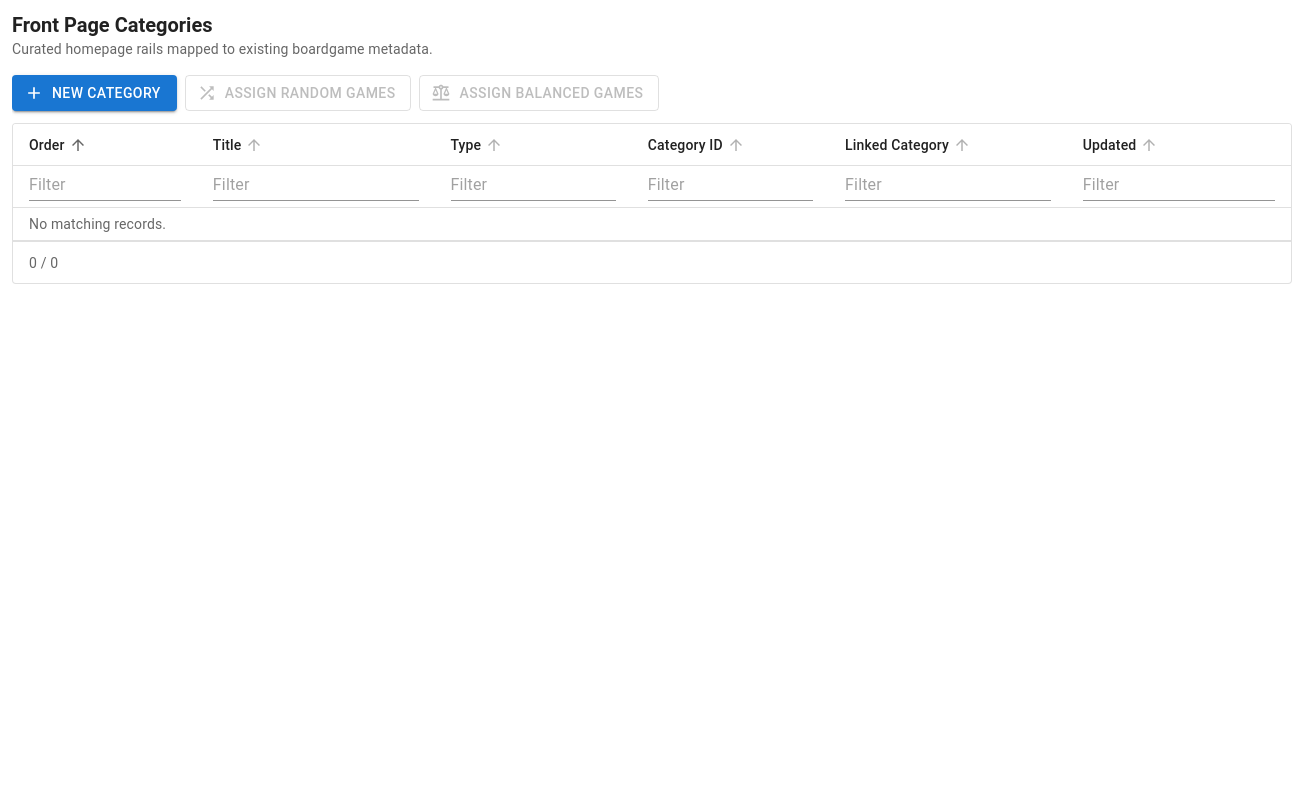
Scenario: FrontPageCategoriesPage › creates a front page category from the form
The width and height of the screenshot is (1292, 812).
Click the button "New Category" at point(94, 93), box x1=12 y1=75 x2=177 y2=111
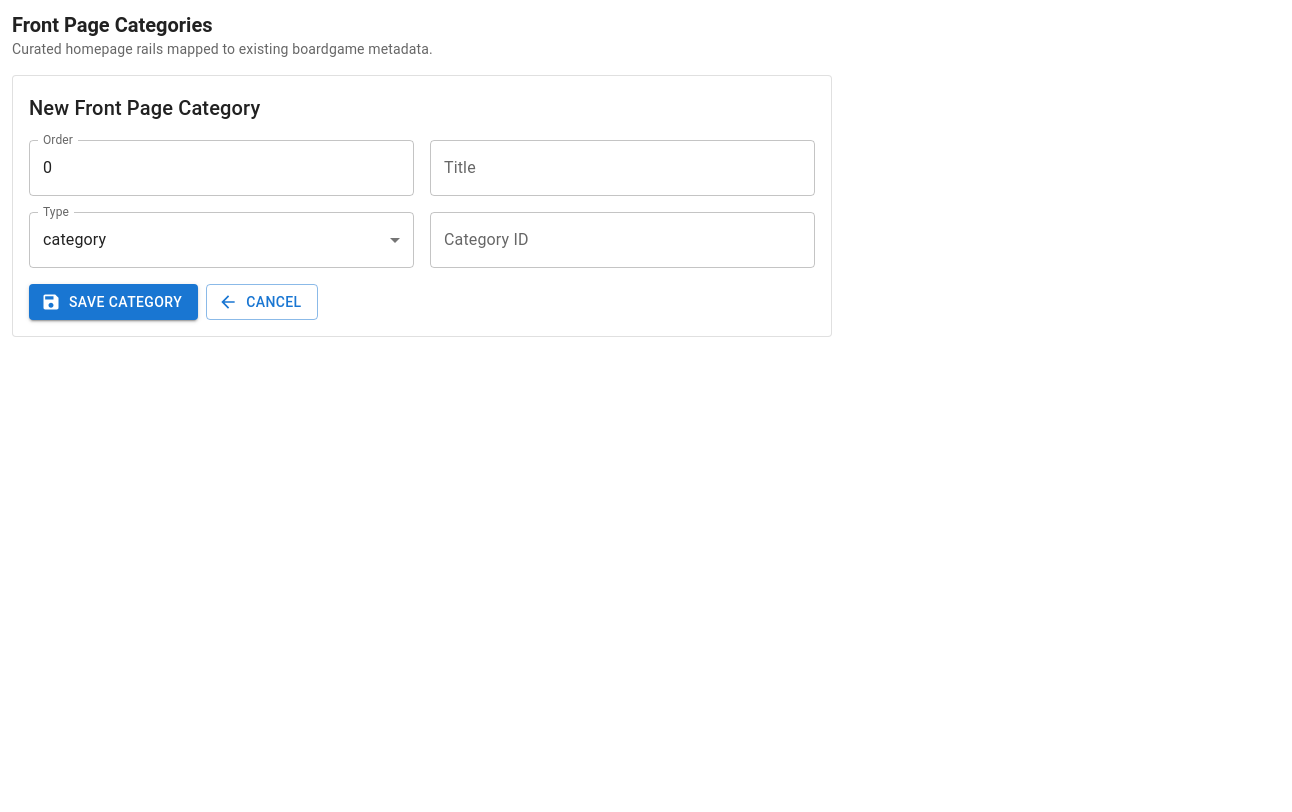
Check: the heading "New Front Page Category" is shown, box x1=29 y1=96 x2=260 y2=120
Type "10" into the number field labelled "Order" at point(222, 168), box x1=29 y1=140 x2=414 y2=196
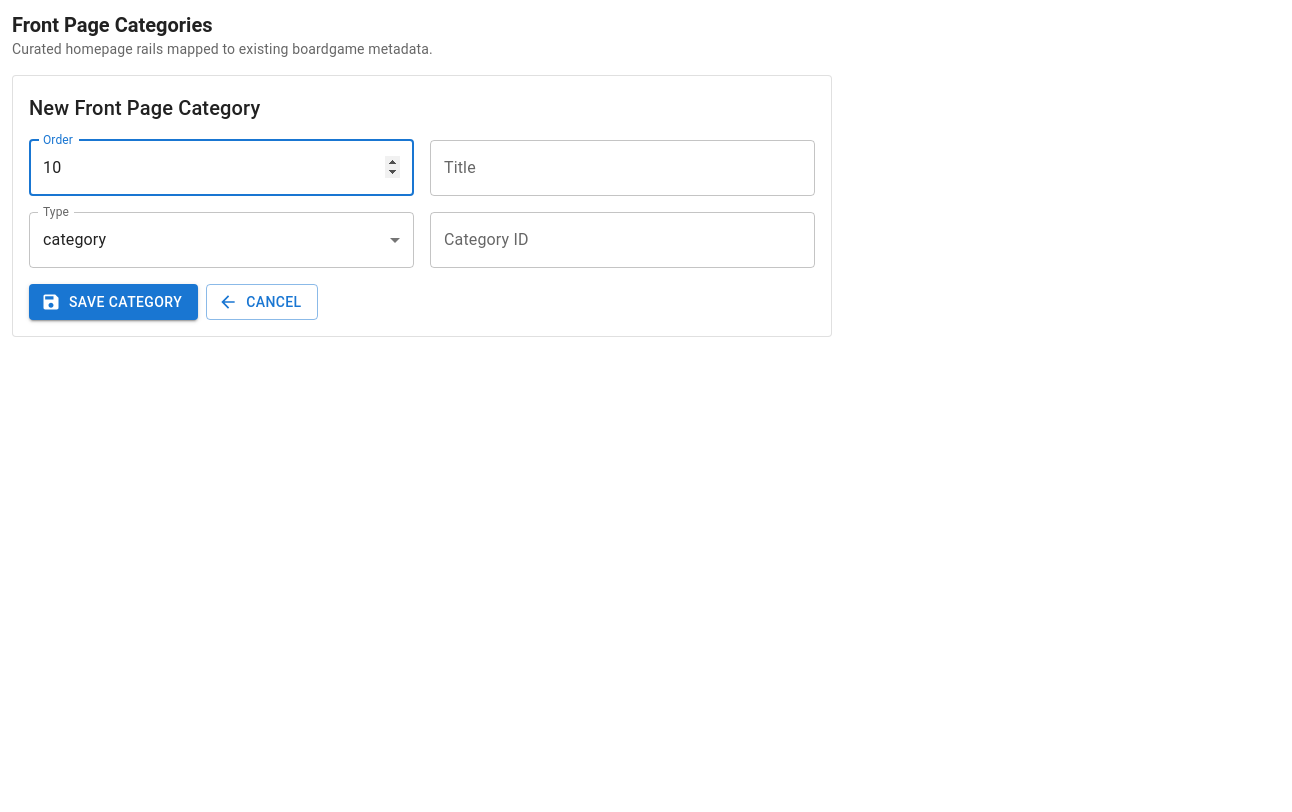
Type "Need a laugh?" into the field labelled "Title" at point(622, 168), box x1=430 y1=140 x2=815 y2=196
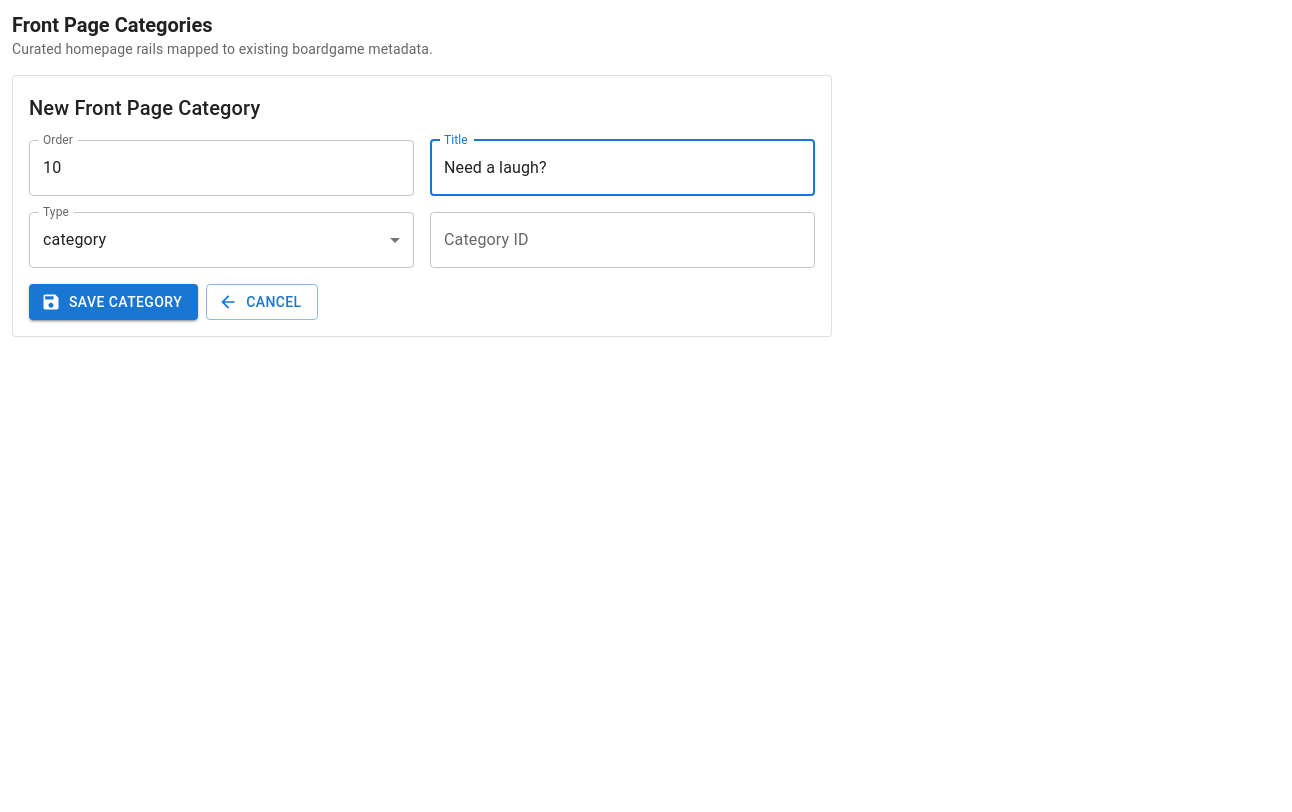
Type "5" into the number field labelled "Category ID" at point(622, 240), box x1=430 y1=212 x2=815 y2=268
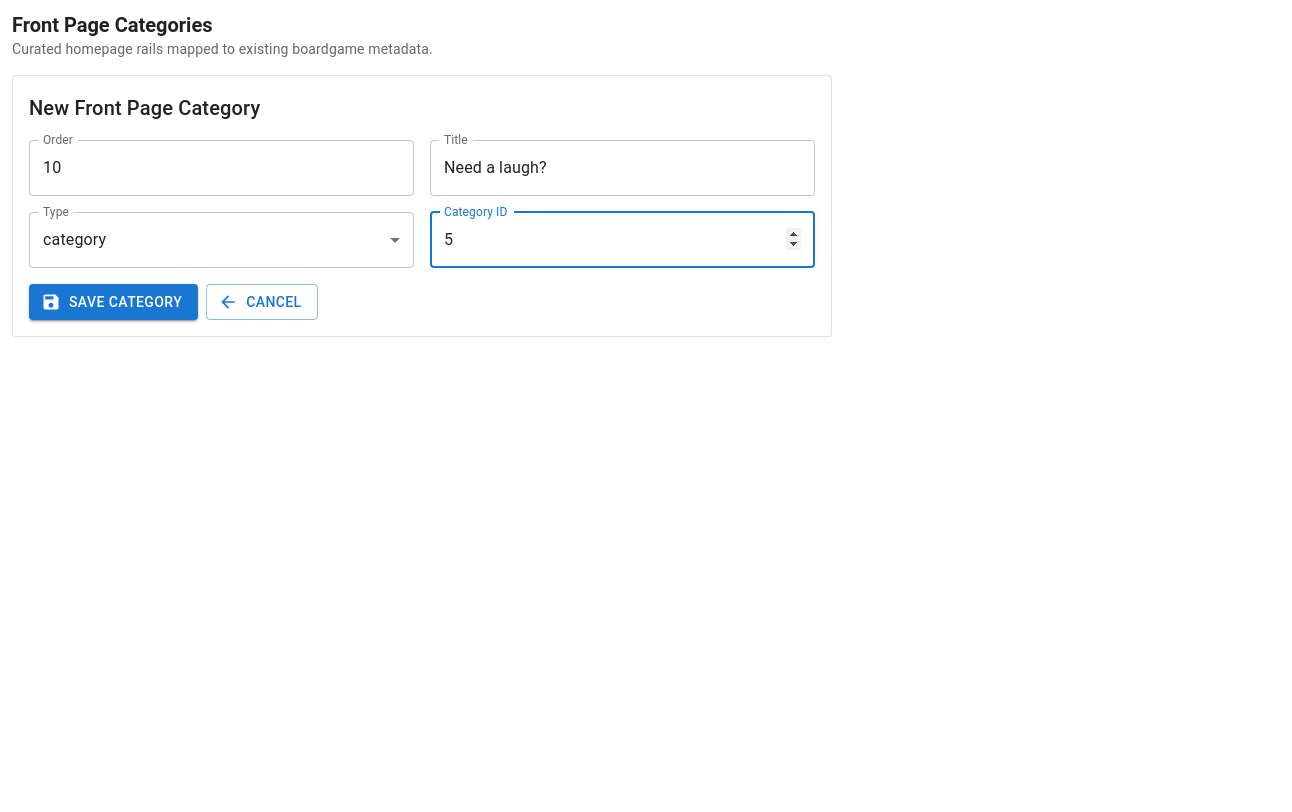
Click the button "Save Category" at point(114, 302), box x1=29 y1=284 x2=198 y2=320
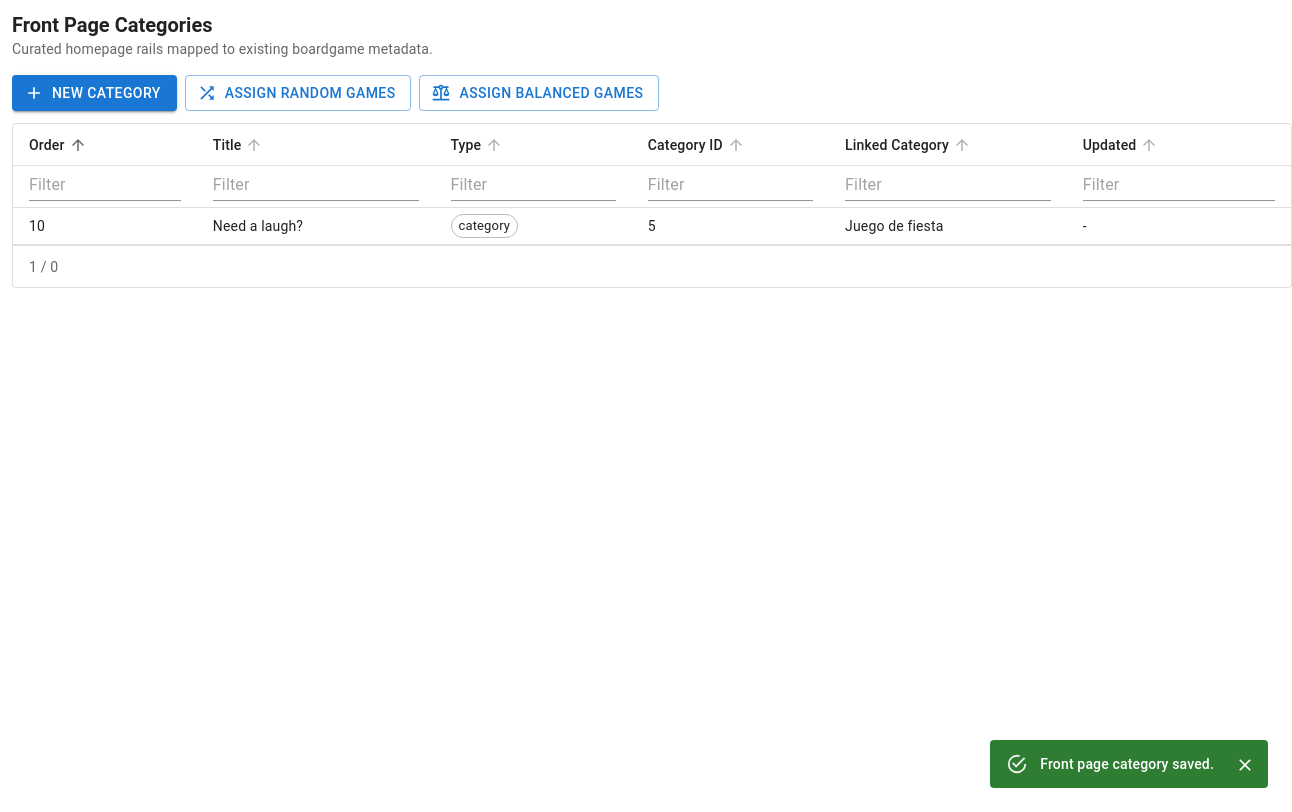
Check: the text "Need a laugh?" is shown, box x1=197 y1=208 x2=434 y2=245
